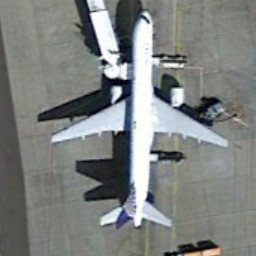Airplane: (44, 6, 237, 242)
